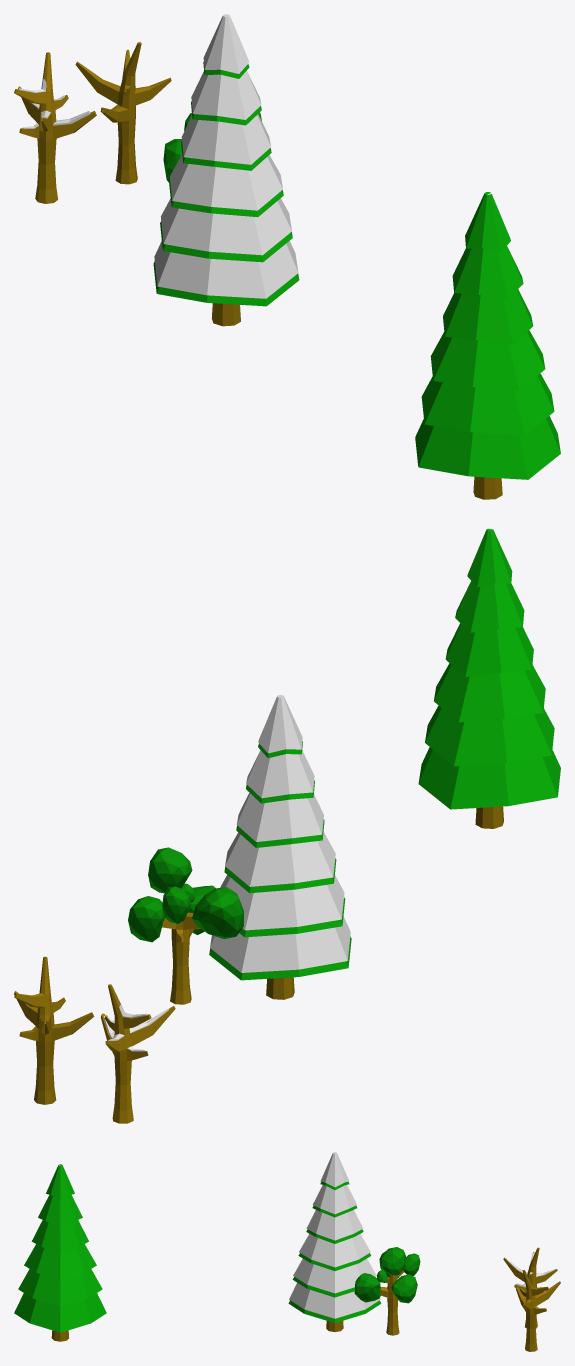
The model's file is Trees_Part.fbx.
3 renders of one model, top to bottom at view 1: azimuth 30°, elevation 25°; view 2: azimuth 150°, elevation 25°; view 3: azimuth 270°, elevation 25°, orthographic. The views are drawn at different scales.
Parts seen in each view (by area): view 1: polySurface70, polySurface71, polySurface58, Cylinder.005, polySurface61; view 2: polySurface71, polySurface70, polySurface61, Cylinder.005, polySurface58; view 3: polySurface71, polySurface70, polySurface61, Cylinder.005, polySurface58.
Part boxes in pixels (bbox=[...]): polySurface70: bbox=[153, 14, 299, 326]; polySurface71: bbox=[415, 192, 560, 499]; polySurface58: bbox=[14, 52, 96, 203]; Cylinder.005: bbox=[75, 42, 171, 184]; polySurface61: bbox=[163, 112, 261, 182]; polySurface71: bbox=[418, 528, 560, 828]; polySurface70: bbox=[209, 695, 351, 999]; polySurface61: bbox=[128, 847, 243, 1004]; Cylinder.005: bbox=[14, 956, 94, 1104]; polySurface58: bbox=[100, 984, 175, 1123]; polySurface71: bbox=[14, 1164, 106, 1341]; polySurface70: bbox=[288, 1152, 381, 1331]; polySurface61: bbox=[354, 1247, 420, 1335]; Cylinder.005: bbox=[516, 1270, 560, 1351]; polySurface58: bbox=[503, 1247, 557, 1328].
Size of the model in its own units: 376 by 623 by 1729.
